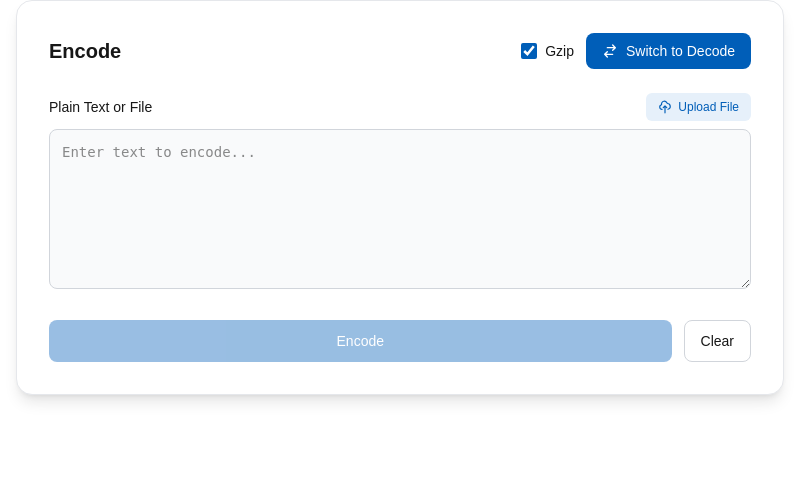
Test: EncoderDecoder › shows error when convert throws unexpectedly
Type "crash" into the text box with placeholder "Enter text to encode..." at (400, 209), box [49,129,751,289]
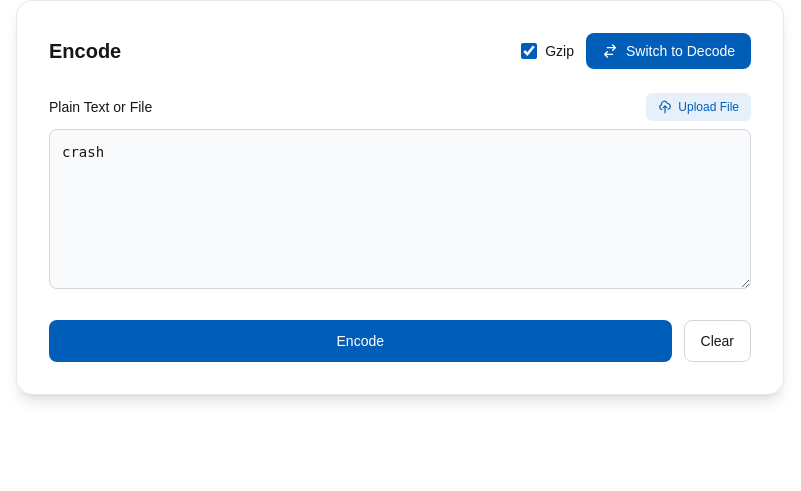
Click the button "Encode" at (360, 341), box [49,320,672,362]
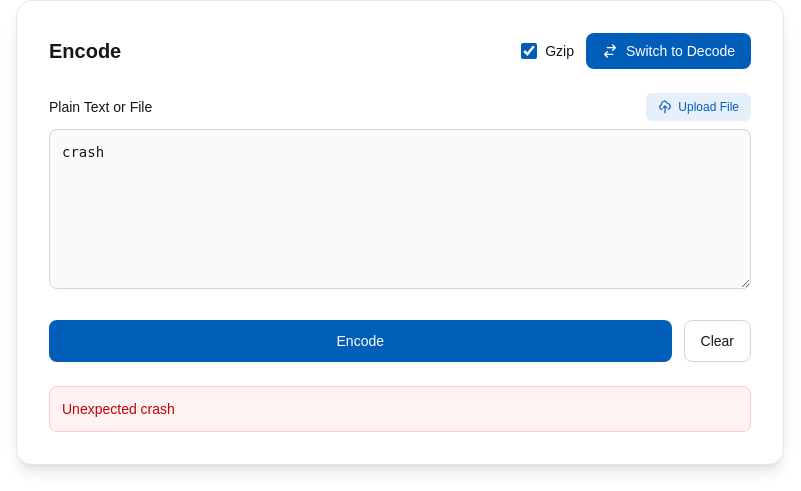
Check: the text "Unexpected crash" is shown, box [49,386,751,432]
